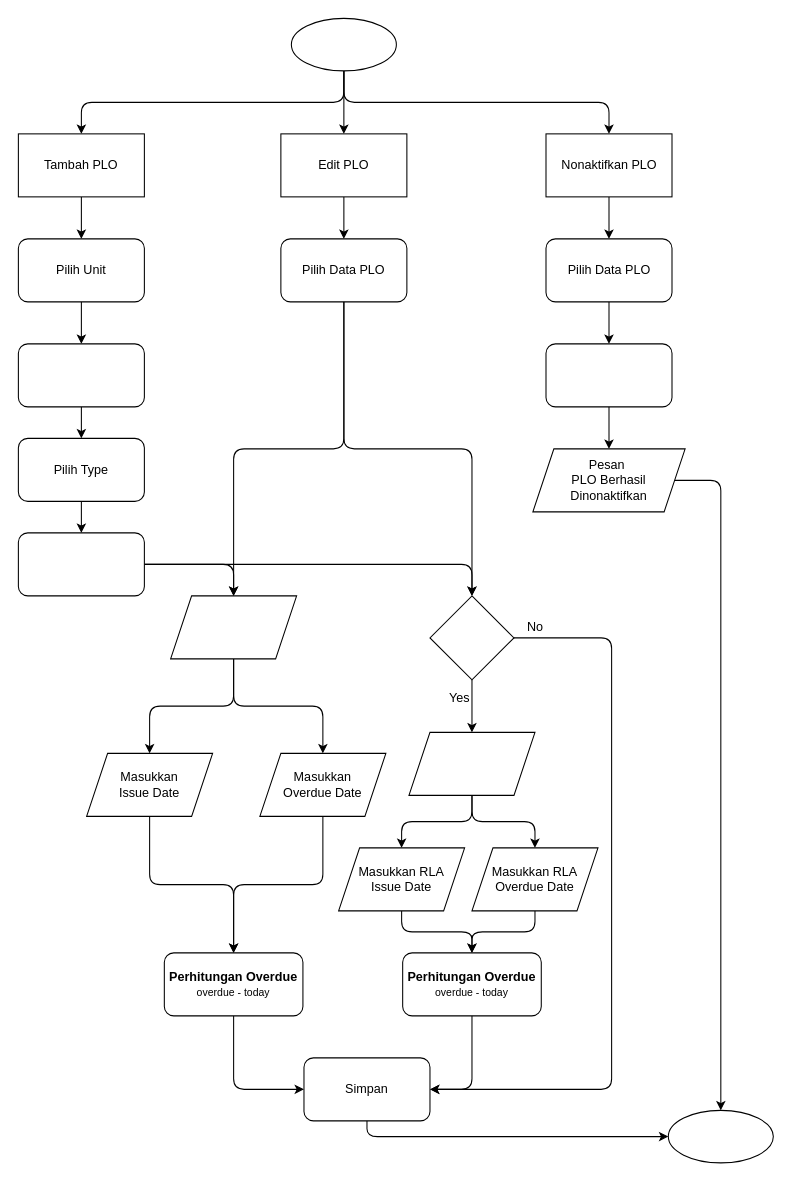
Image size: 792x1181. Some labels were removed from this diagram. Each missing label, with the centre of its shape:
END: pixel 720 1136
Klik Nonaktifkan: pixel 608 375
Pilih Category: pixel 80 375
Pilih Tag Number: pixel 80 564
RLA ?: pixel 471 637
START: pixel 343 44
Upload File Certificate: pixel 233 627
Upload File Certificate RLA: pixel 471 763
